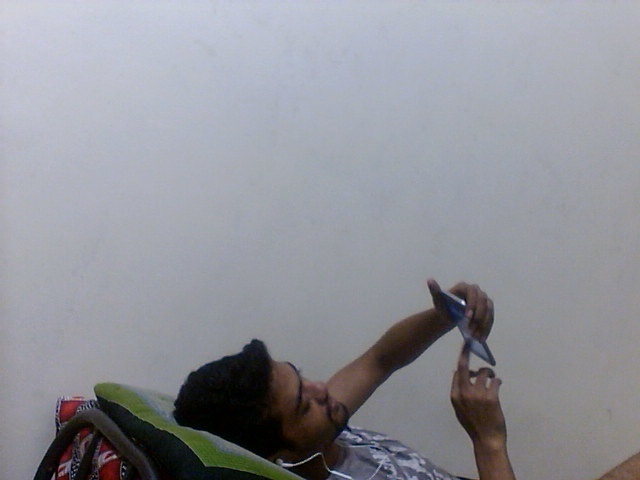hand: (446, 336, 510, 447), (426, 276, 498, 340)
